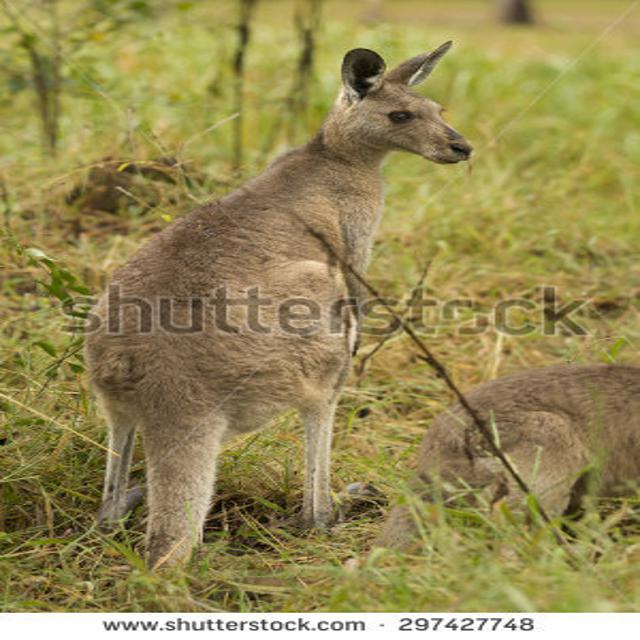kangaroo: (79, 36, 485, 566)
